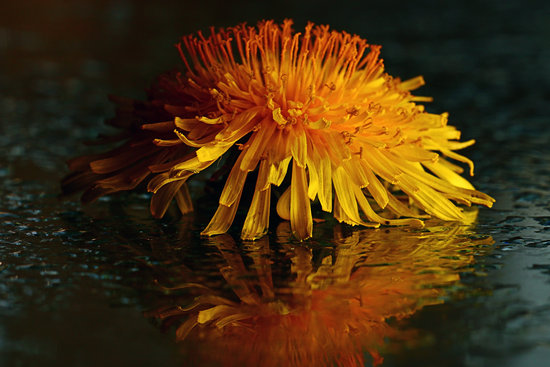dandelion: (150, 29, 483, 235)
